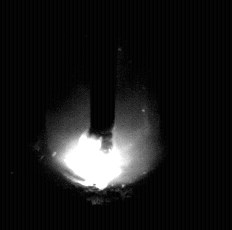arame: (91, 0, 116, 151)
poca: (48, 0, 158, 230)
